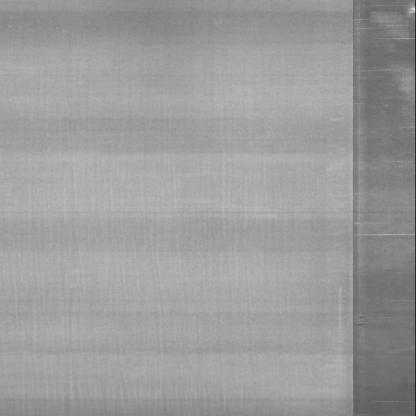welding_line: (341, 2, 379, 416)
